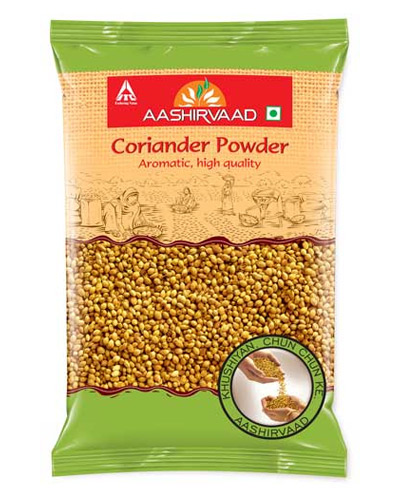VEG: (265, 105, 282, 122)
